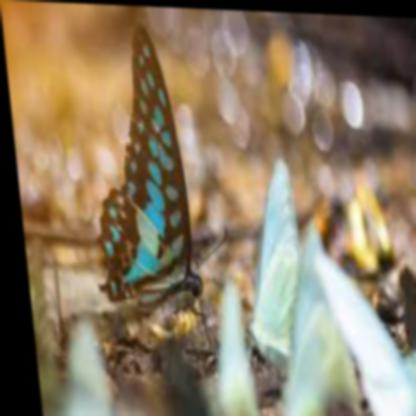Butterfly: (73, 21, 227, 343)
